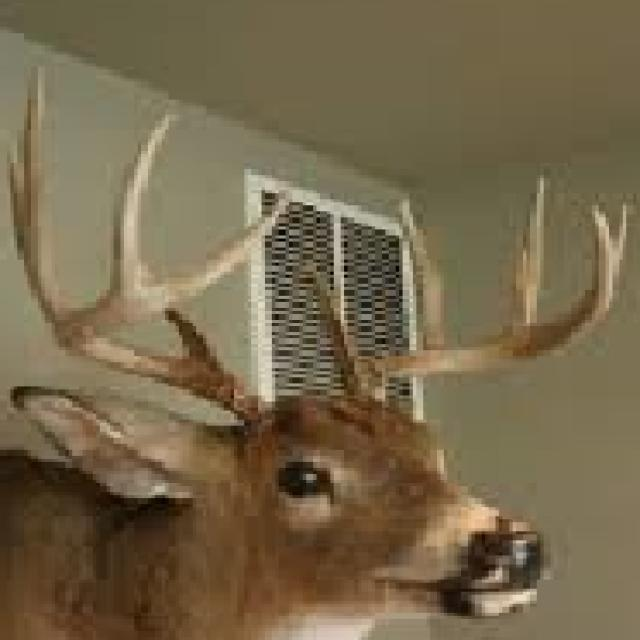L-F: (341, 204, 615, 407)
L-G1: (307, 255, 361, 378)
L-G2: (397, 191, 446, 355)
L-G3: (500, 168, 546, 342)
R-F: (53, 188, 295, 428)
R-G1: (159, 304, 224, 369)
R-G3: (23, 64, 72, 325)
R-G4: (111, 110, 177, 293)
